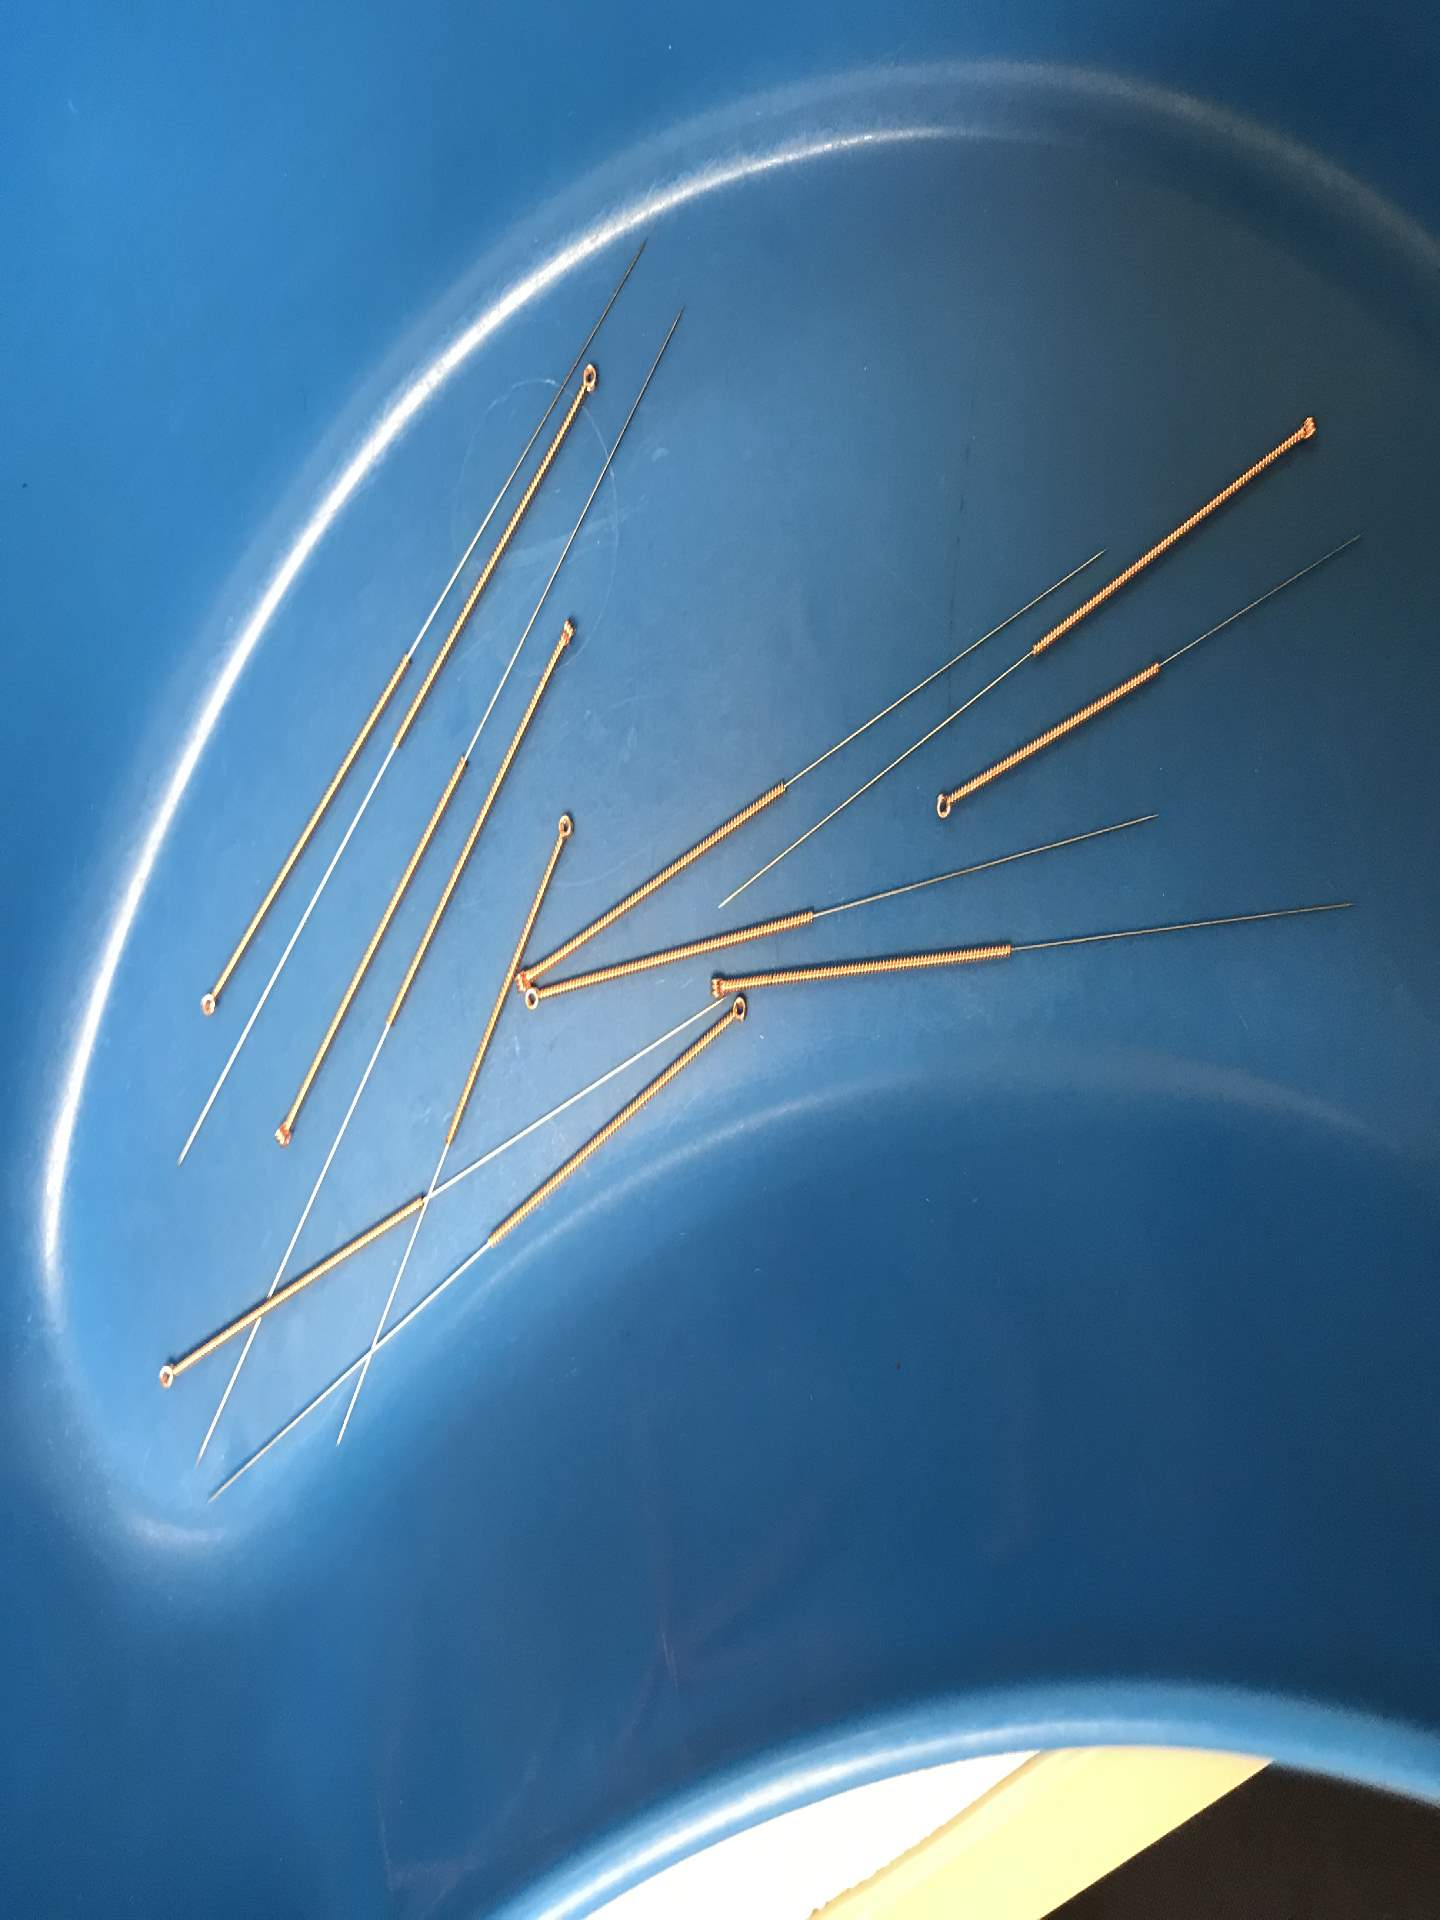needle: (1284, 404, 1325, 452), (545, 803, 581, 856), (924, 779, 964, 827), (148, 1352, 188, 1398), (548, 608, 582, 661), (268, 1108, 301, 1160), (191, 978, 224, 1028), (570, 357, 602, 404), (722, 993, 753, 1028), (703, 968, 734, 1004), (520, 984, 552, 1014), (511, 965, 538, 993)
